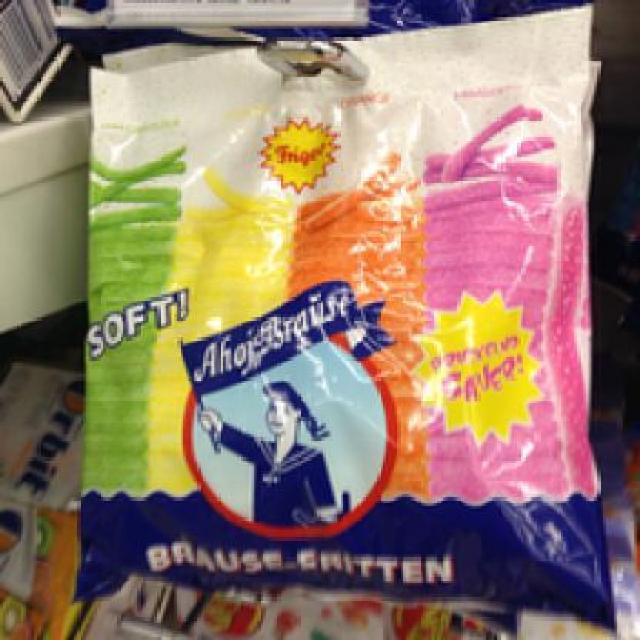Candy: (83, 28, 580, 606)
